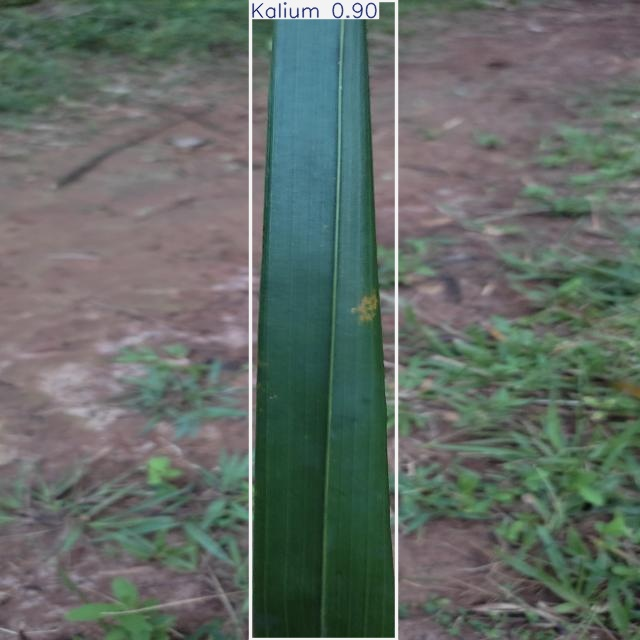Kalium: (251, 0, 396, 640)
